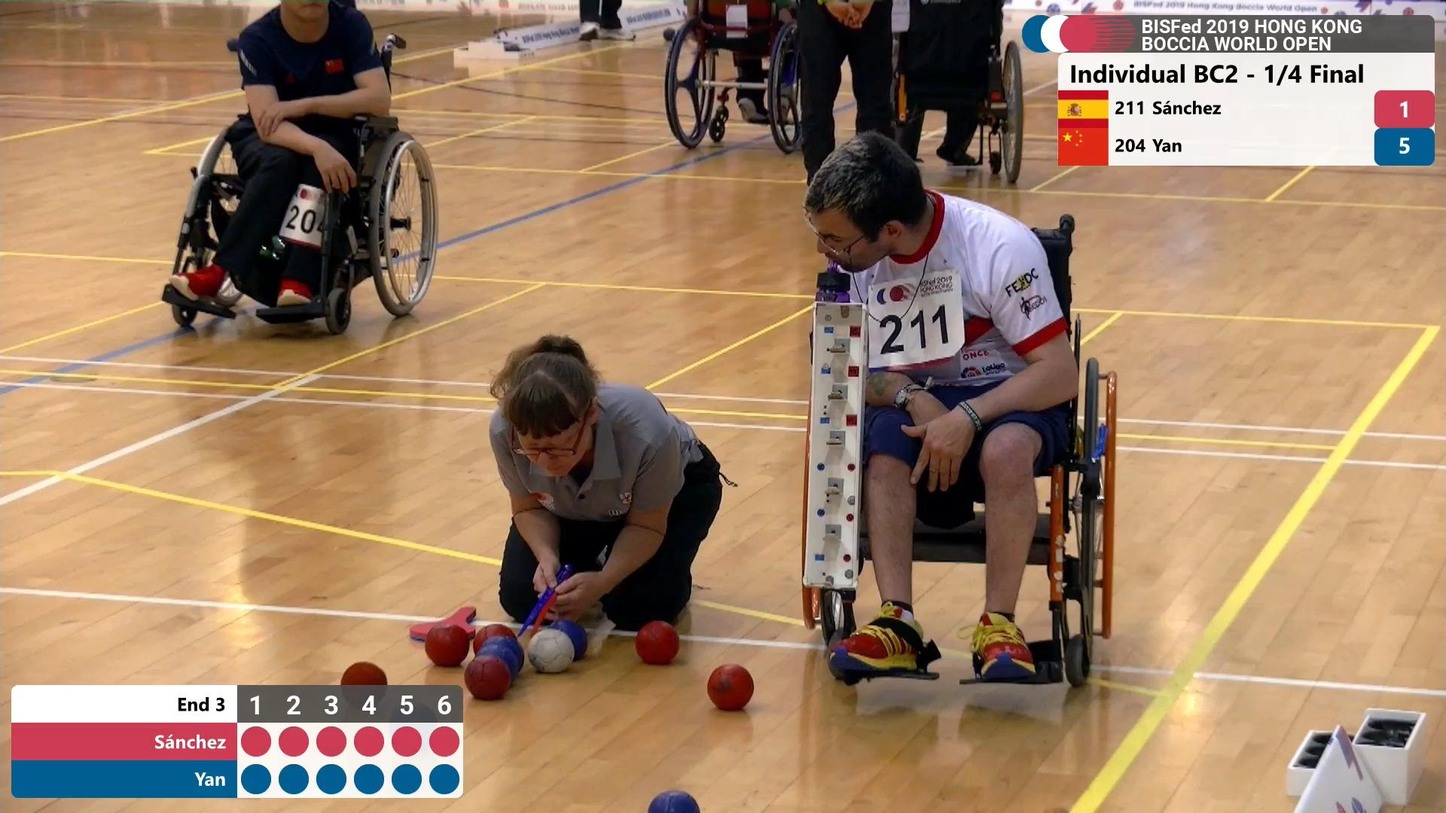blue_ball: (641, 787, 707, 813)
red_ball: (703, 660, 760, 717), (463, 650, 514, 705), (630, 619, 683, 670), (422, 620, 472, 668)
white_ball: (526, 626, 578, 679)
